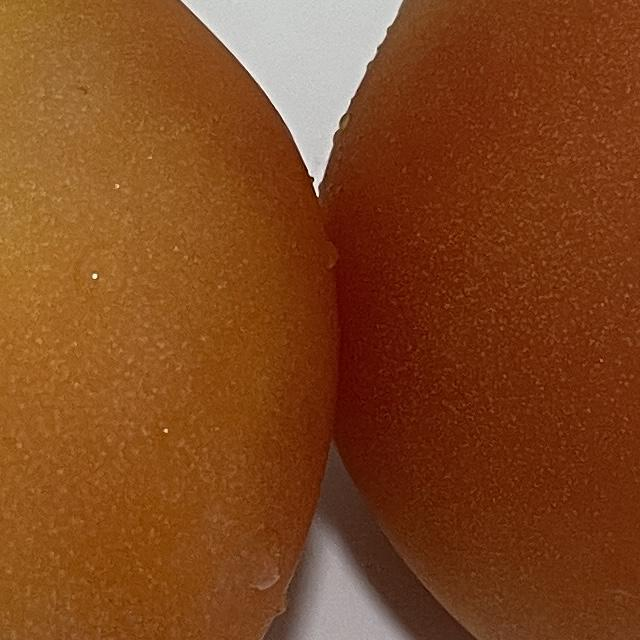tomato: (0, 0, 342, 640), (319, 0, 640, 640)
